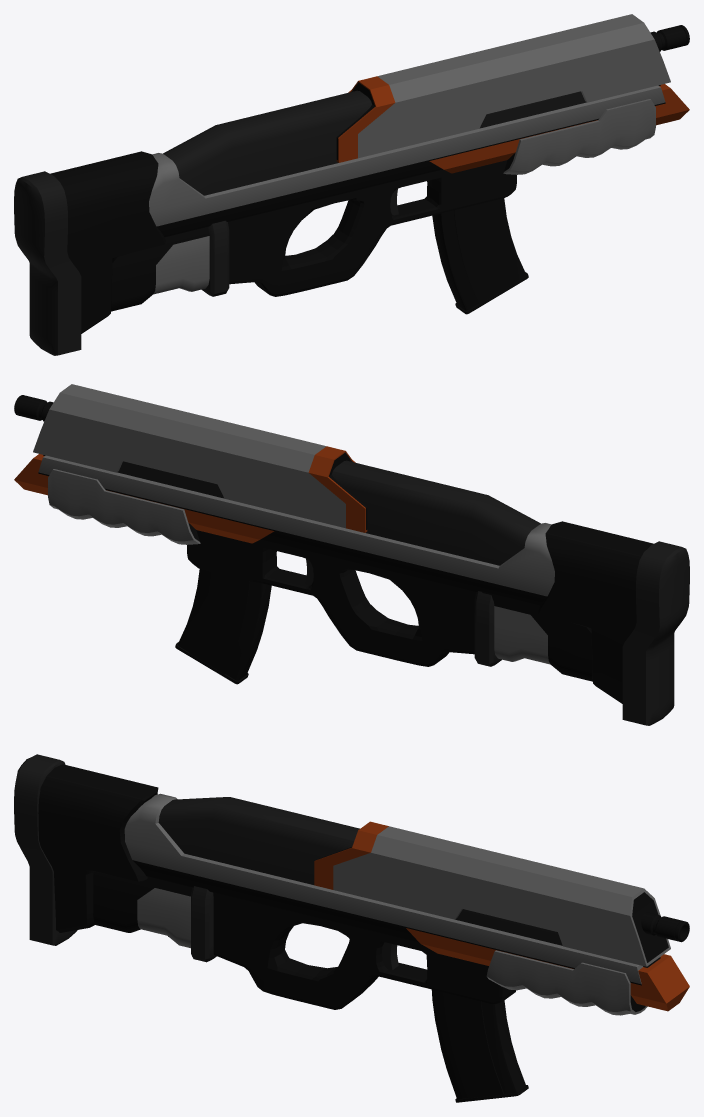
3 renders of one model, top to bottom at view 1: azimuth 30°, elevation 25°; view 2: azimuth 150°, elevation 25°; view 3: azimuth 330°, elevation 25°, orthographic.
Parts seen in each view (by area): view 1: AR_4_Cube.142, Magazine_Cube.222; view 2: AR_4_Cube.142, Magazine_Cube.222; view 3: AR_4_Cube.142, Magazine_Cube.222.
Boxes of the visible parts, <box> form: AR_4_Cube.142: <box>14,14,689,355</box>; Magazine_Cube.222: <box>432,198,528,314</box>; AR_4_Cube.142: <box>14,384,689,725</box>; Magazine_Cube.222: <box>175,569,271,684</box>; AR_4_Cube.142: <box>14,754,689,1015</box>; Magazine_Cube.222: <box>431,989,528,1102</box>.
Size of the model in its own units: 1.79 by 0.6476 by 0.1461.
